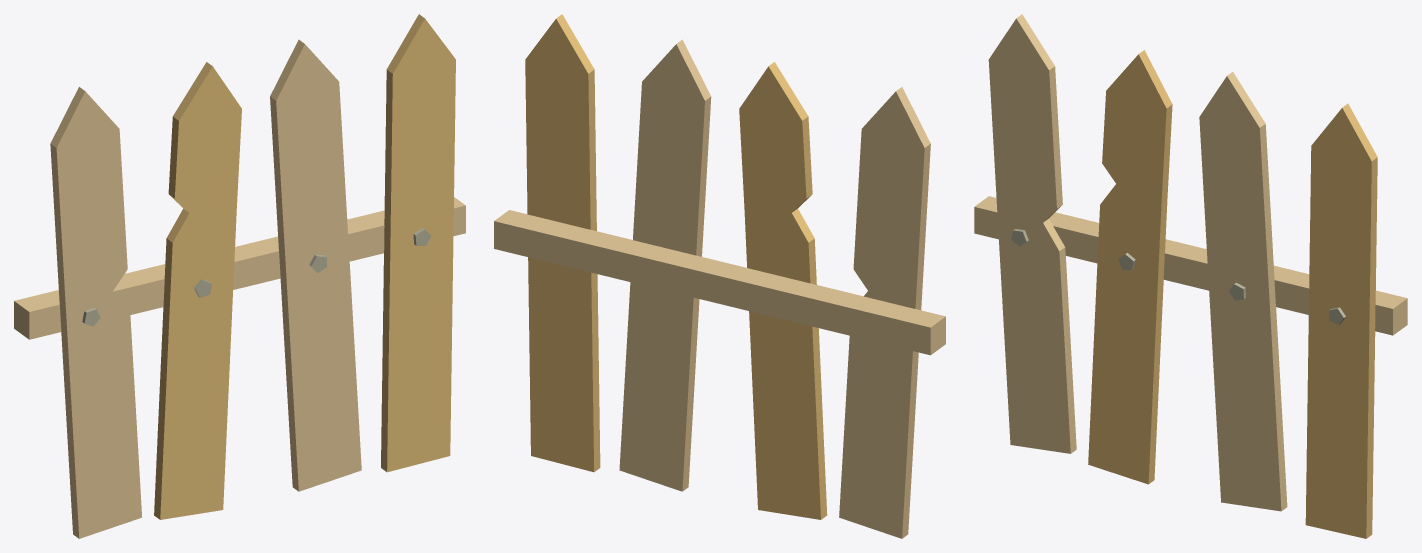
Rendered from fence_3_destroy.fbx.
3 renders of one model, left to right at view 1: azimuth 30°, elevation 25°; view 2: azimuth 150°, elevation 25°; view 3: azimuth 330°, elevation 25°, orthographic. The views are drawn at different scales.
Parts seen in each view (by area): view 1: fence_3_destroy.004, fence_3_destroy.003, fence_3_destroy.002, fence_3_destroy.001, fence_3_destroy; view 2: fence_3_destroy.004, fence_3_destroy.003, fence_3_destroy.002, fence_3_destroy.001, fence_3_destroy; view 3: fence_3_destroy.003, fence_3_destroy.004, fence_3_destroy.001, fence_3_destroy.002, fence_3_destroy.
Boxes of the visible parts, left/top/right/bottom form: fence_3_destroy.004: left=381, top=14, right=455, bottom=472; fence_3_destroy.003: left=270, top=39, right=361, bottom=491; fence_3_destroy.002: left=154, top=62, right=241, bottom=519; fence_3_destroy.001: left=50, top=87, right=141, bottom=538; fence_3_destroy: left=14, top=197, right=465, bottom=339; fence_3_destroy.004: left=525, top=14, right=600, bottom=472; fence_3_destroy.003: left=619, top=39, right=711, bottom=491; fence_3_destroy.002: left=739, top=62, right=827, bottom=519; fence_3_destroy.001: left=839, top=87, right=930, bottom=538; fence_3_destroy: left=494, top=210, right=945, bottom=355; fence_3_destroy.003: left=1199, top=71, right=1287, bottom=511; fence_3_destroy.004: left=1305, top=103, right=1377, bottom=538; fence_3_destroy.001: left=988, top=14, right=1076, bottom=453; fence_3_destroy.002: left=1088, top=50, right=1172, bottom=484; fence_3_destroy: left=974, top=196, right=1407, bottom=335.
Size of the model in its own units: 199 by 198 by 18.66.
